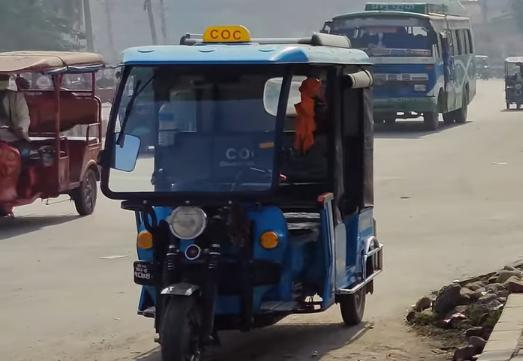bus: (325, 4, 480, 128)
e-rickshaw: (90, 25, 385, 361), (0, 48, 99, 223), (502, 53, 523, 113)
